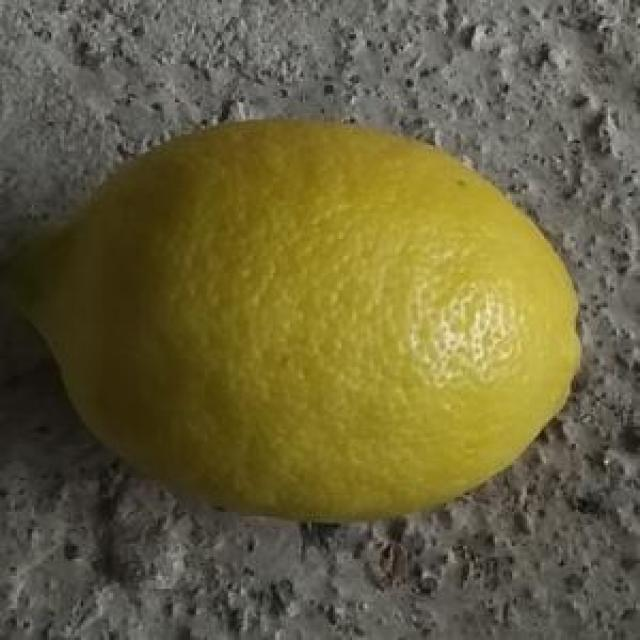lemon: (2, 117, 588, 524)
